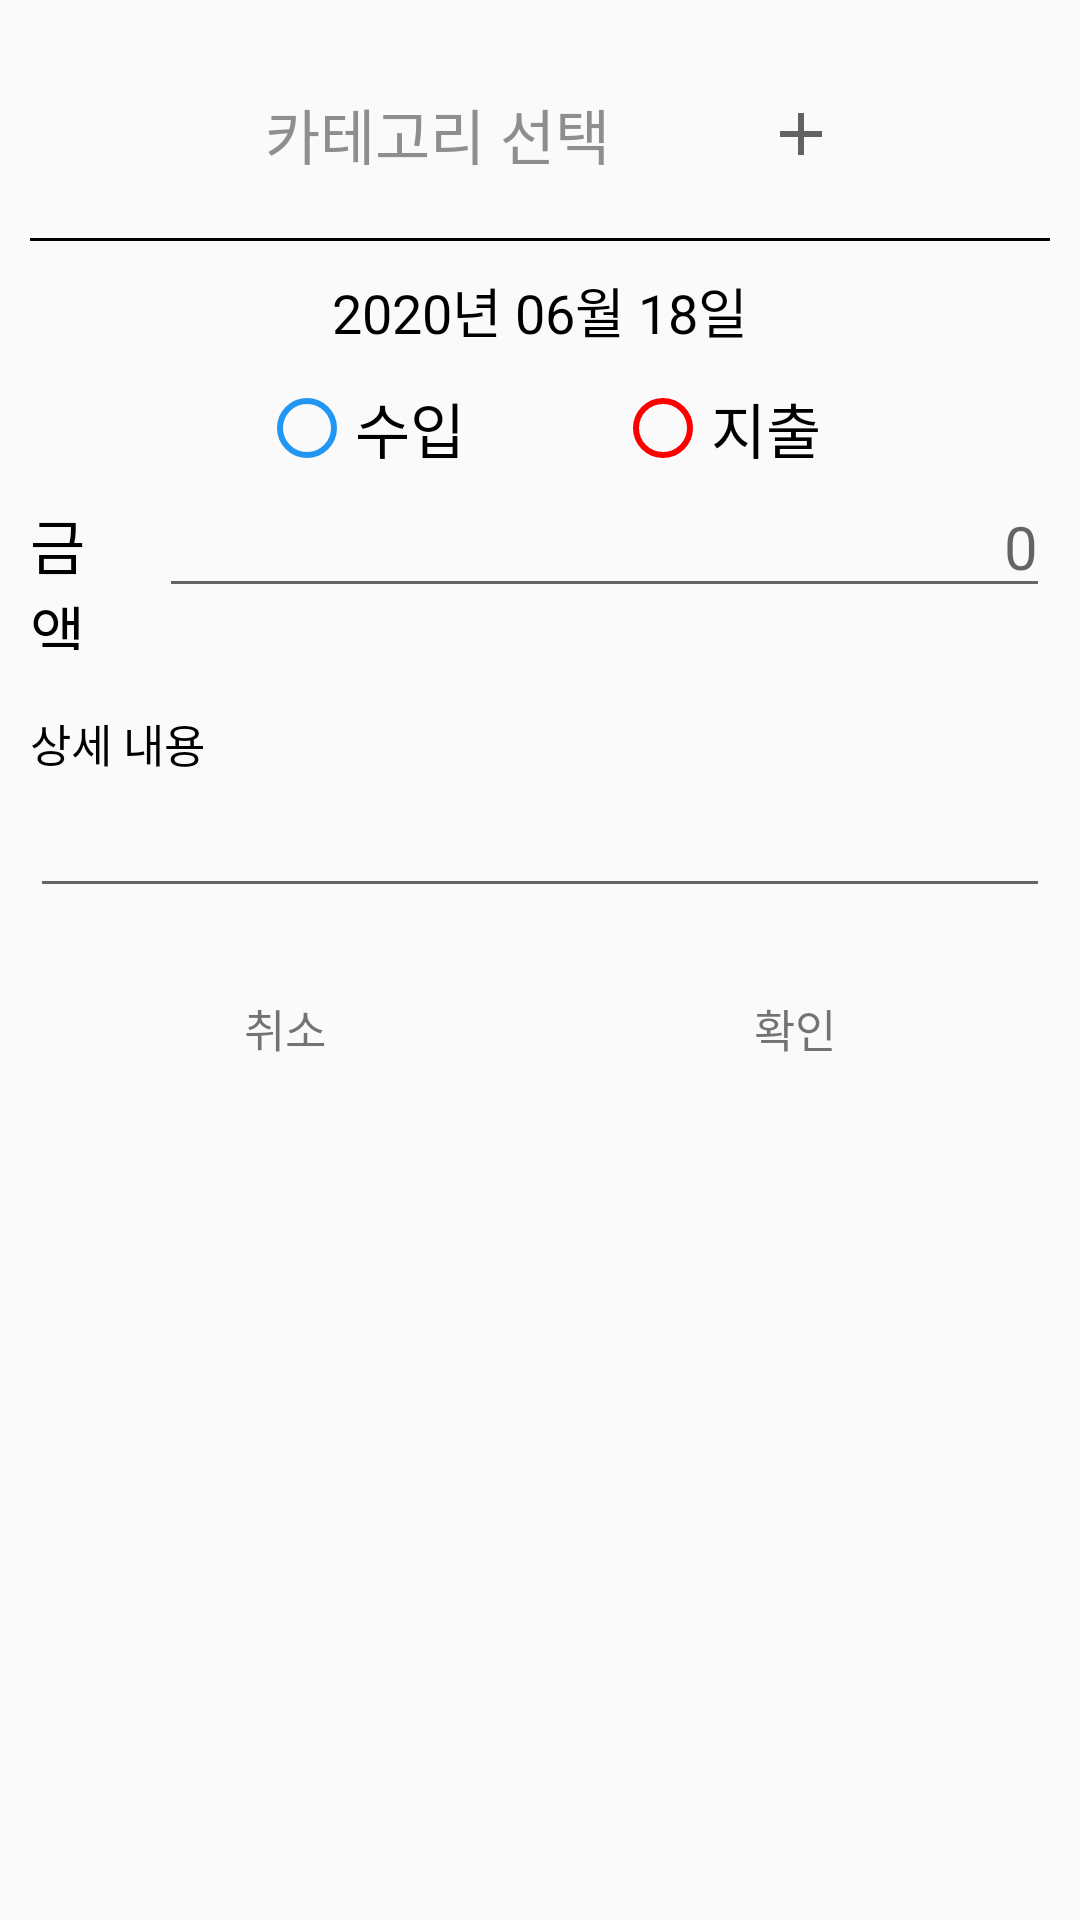

Where icons sit on this 1080w x 1920h app screen, as (x1, y1, x2, y2):
add: (780, 113, 822, 155)
